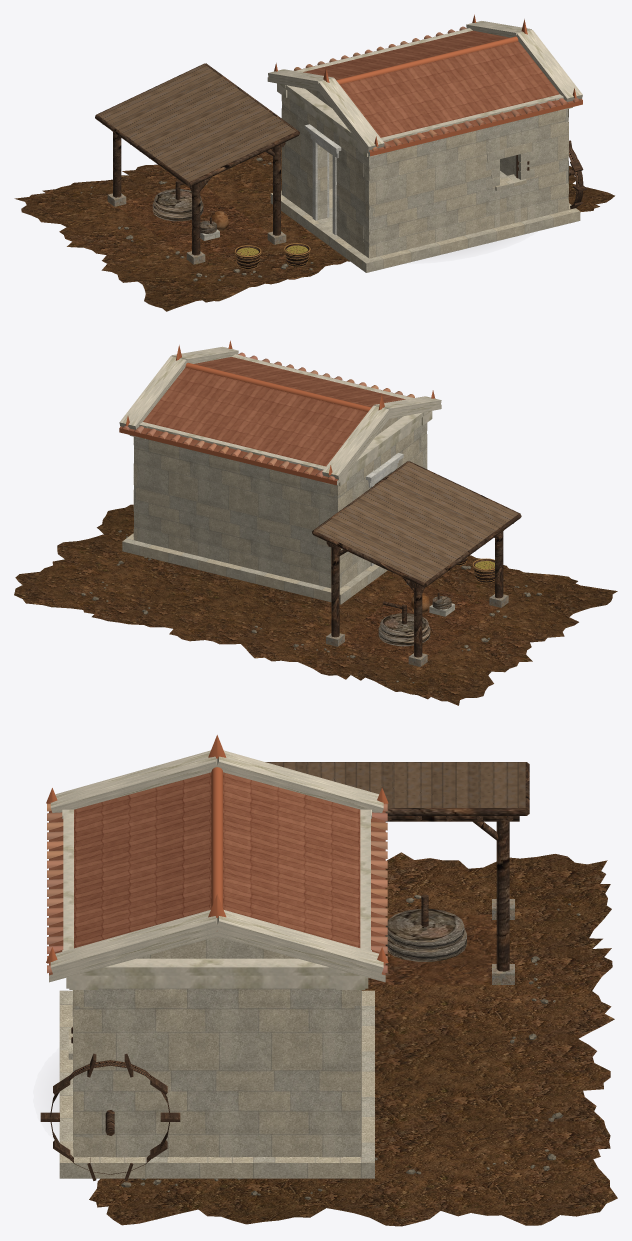
File: watermill.glb
3 views of the same model, one above another, from view 1: azimuth 30°, elevation 25°; view 2: azimuth 150°, elevation 25°; view 3: azimuth 270°, elevation 25° (orthographic). The views are drawn at different scales.
Parts seen in each view (by area): view 1: part_4, part_1, part_17, part_9, part_16, part_5, part_7, part_18, part_6, part_10, part_19, part_11 (+2 smaller); view 2: part_1, part_4, part_17, part_9, part_16, part_7, part_5, part_18, part_10, part_19, part_8, part_6; view 3: part_1, part_4, part_17, part_16, part_9, part_5, part_7, part_19, part_10, part_18, part_2.
Boxes of the visible parts, x1,y1,x2,y2 form: part_4: [270, 89, 580, 272]; part_1: [14, 147, 614, 311]; part_17: [268, 30, 582, 151]; part_9: [97, 64, 296, 181]; part_16: [267, 21, 582, 157]; part_5: [95, 63, 586, 255]; part_7: [117, 186, 272, 259]; part_18: [274, 14, 582, 156]; part_6: [304, 124, 341, 234]; part_10: [152, 189, 216, 233]; part_19: [294, 26, 580, 151]; part_11: [235, 244, 309, 269]; part_1: [14, 504, 617, 705]; part_4: [122, 416, 427, 604]; part_17: [120, 357, 406, 480]; part_9: [314, 461, 518, 582]; part_16: [119, 346, 441, 486]; part_7: [340, 586, 498, 662]; part_5: [312, 461, 521, 657]; part_18: [119, 340, 435, 485]; part_10: [378, 596, 451, 646]; part_19: [122, 352, 414, 480]; part_8: [326, 583, 508, 666]; part_6: [366, 453, 403, 566]; part_1: [89, 852, 617, 1226]; part_4: [59, 936, 374, 1178]; part_17: [49, 772, 385, 975]; part_16: [49, 750, 385, 989]; part_9: [267, 762, 525, 807]; part_5: [40, 762, 529, 1180]; part_7: [368, 914, 496, 984]; part_19: [47, 803, 387, 973]; part_10: [385, 909, 466, 961]; part_18: [46, 735, 388, 963]; part_2: [121, 895, 580, 1199].
Bounding box in the file's own units: 9.13 × 3.21 × 6.23.
20 materials, 16 textured.
